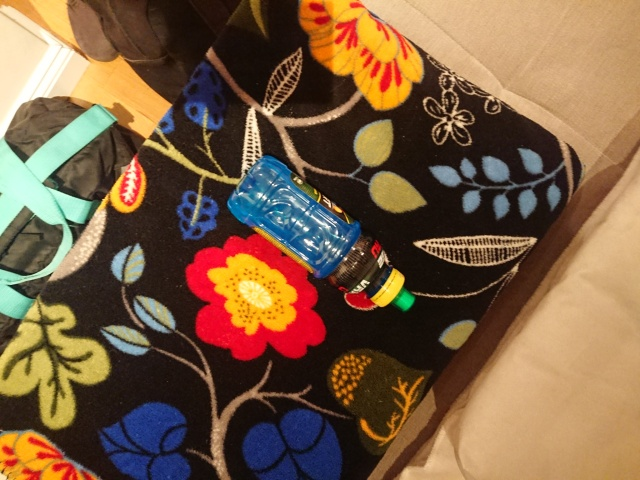Vindi Iso Sport Forest Strawberries 500mL: (224, 152, 417, 314)
